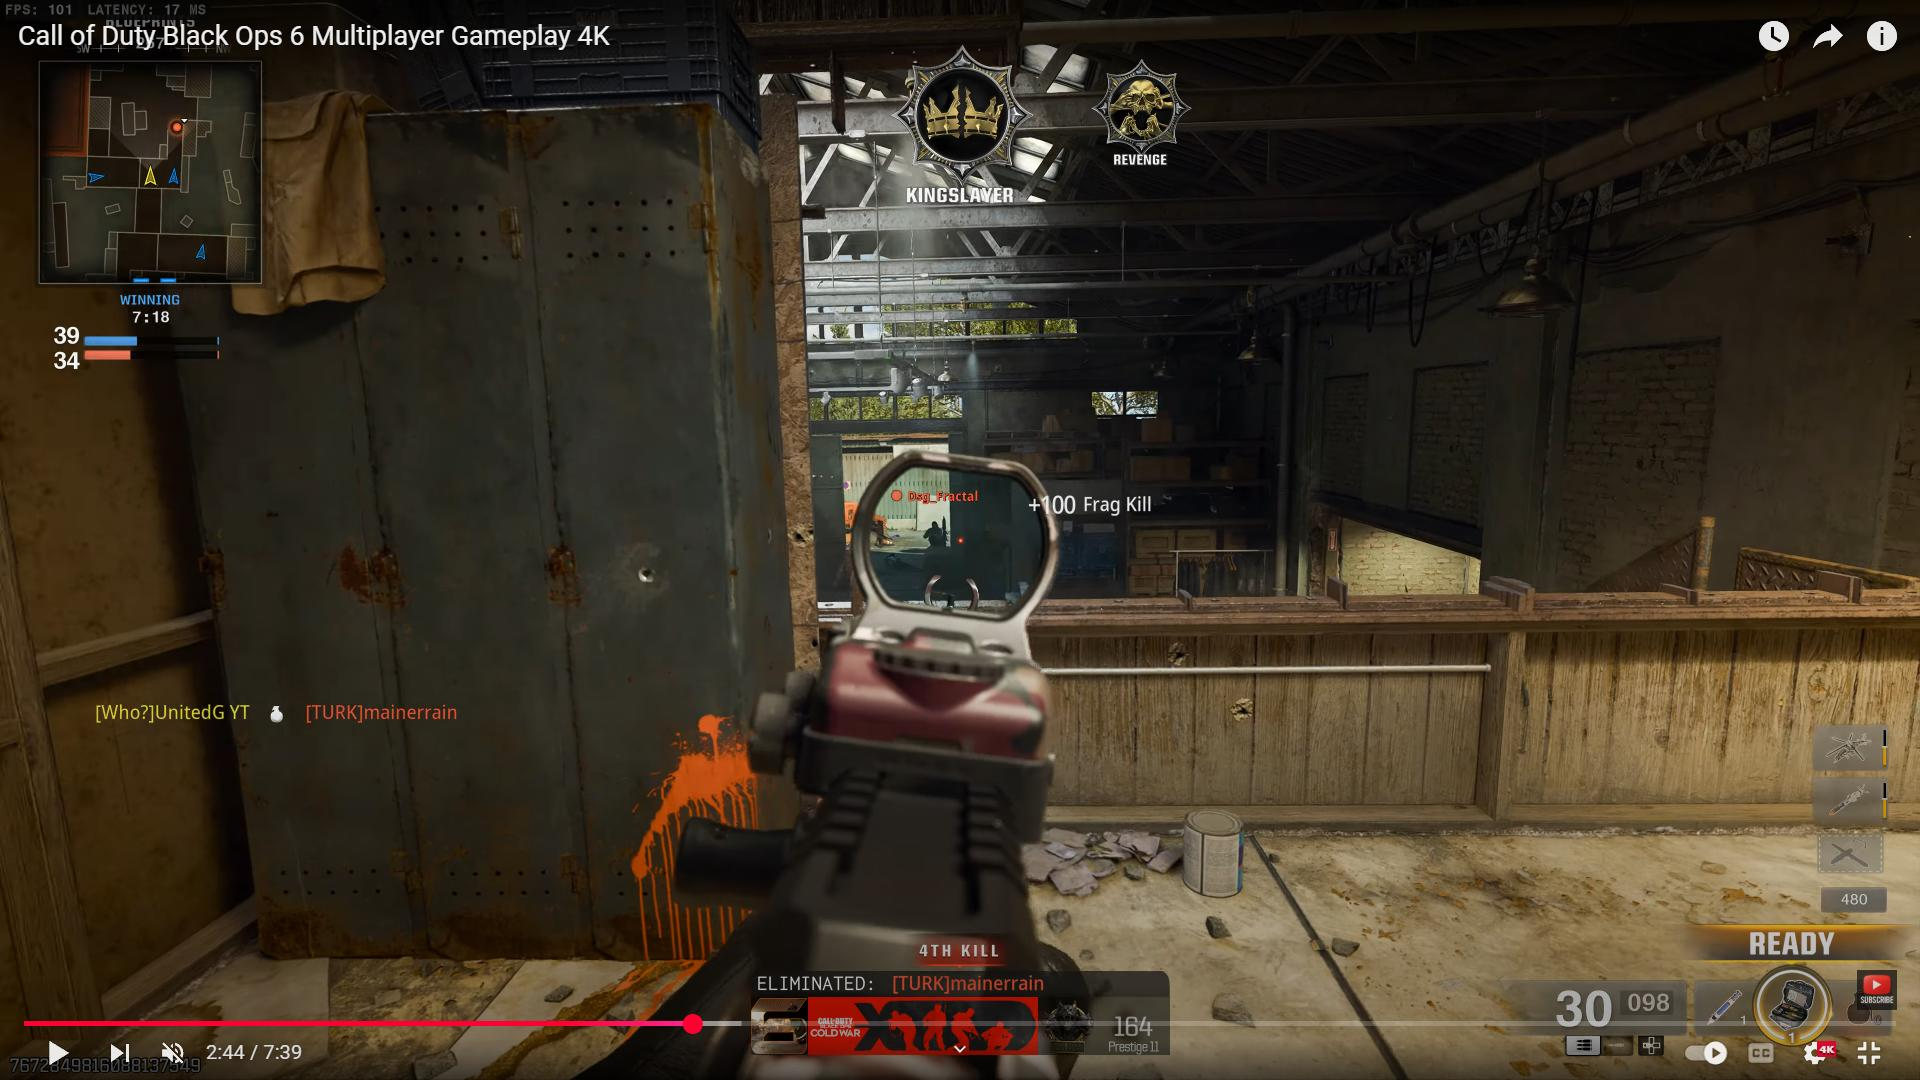Enemy: (924, 510, 949, 550)
